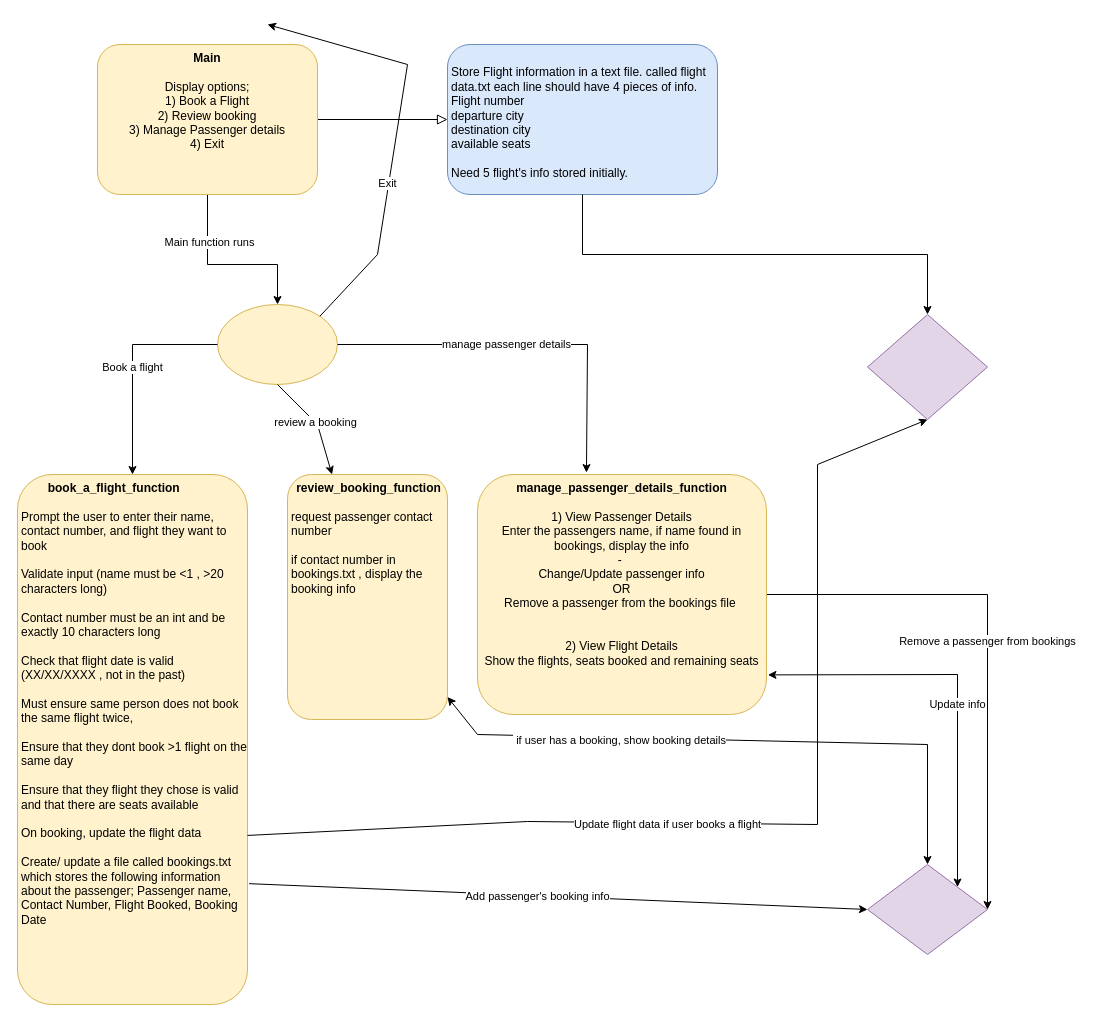
Image size: 1093x1022. Some labels were removed from this diagram. Here are the shapes that lost their labels. From the top down, the centre of each, then its label:
At point 277,344: "User chooses option".
At point 927,367: "flight_data.txt".
At point 927,909: "bookings.txt".
